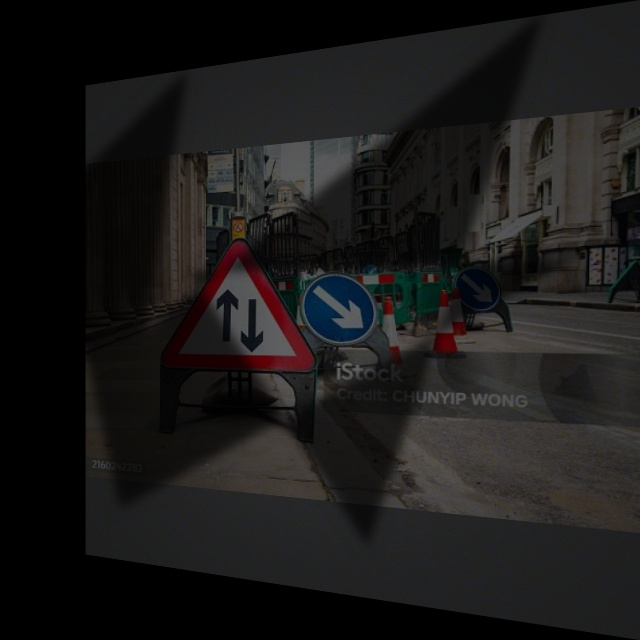Mandatory_Two_Way_Traffic: (169, 233, 312, 378)
